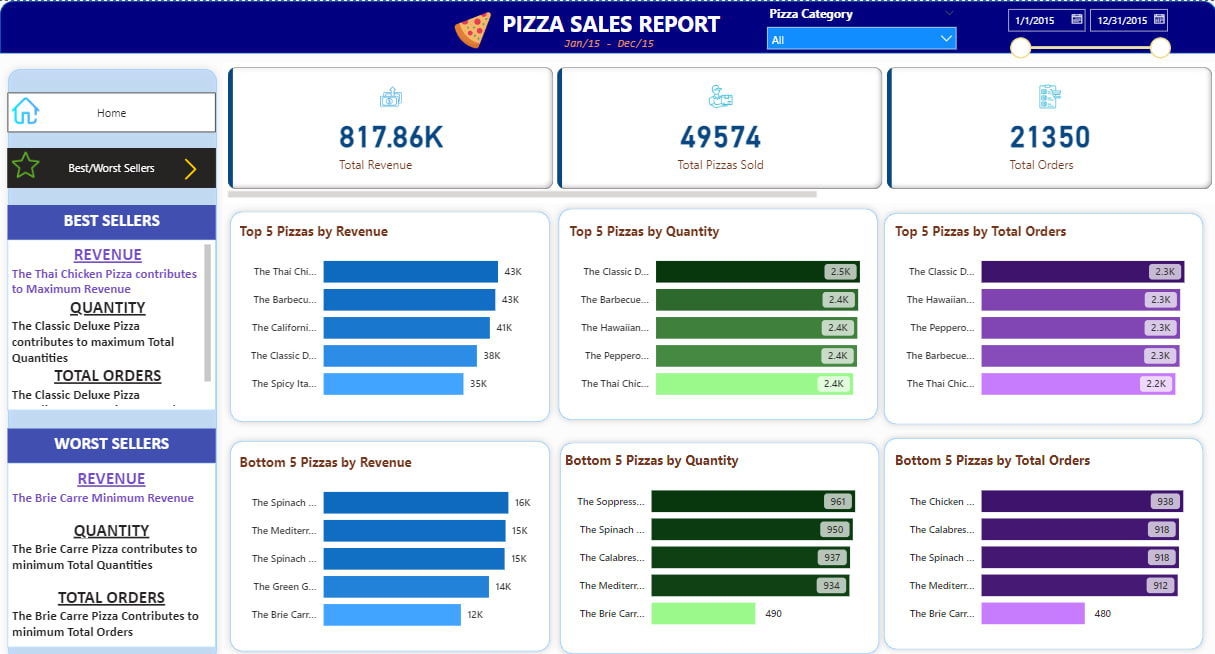

This screenshot's page, from the dashboard's own definition file:
{"tool":"powerbi","page":{"name":"Best/Worst Sellers","canvas":[1500,820],"ordinal":1},"visuals":[{"type":"cardVisual","fields":{"Data":["pizza_sales.Total Revenue","pizza_sales.Total Pizzas Sold","pizza_sales.Total Orders","pizza_sales.Avg Pizzas Per Order","pizza_sales.Avg Order Value"]},"box":[278.5,75.6,1220.8,173.3],"z":0},{"type":"shape","box":[3.7,0,1495.6,64.5],"z":1000},{"type":"textbox","box":[608.6,3.7,293.2,53.5],"z":2000},{"type":"shape","box":[5.5,75.6,272.9,745],"z":3000},{"type":"textbox","box":[678.6,36.9,147.5,38.7],"z":4000},{"type":"image","box":[549.5,7.4,70.1,57.2],"z":5000},{"type":"shape","box":[278.5,250.8,409.4,274.8],"z":6000},{"type":"textbox","box":[12.9,525.6,256.3,42.4],"z":7000},{"type":"textbox","box":[12.9,568,256.3,226.8],"z":8000},{"type":"slicer","fields":{"Values":["pizza_sales.pizza_category"]},"box":[936.8,0,252.6,64.5],"z":9000},{"type":"slicer","fields":{"Values":["pizza_sales.order_date"]},"box":[1230,0,221.3,75.6],"z":10000},{"type":"textbox","box":[12.9,293.2,256.3,210.2],"z":11000},{"type":"textbox","box":[12.9,250.8,256.3,42.4],"z":12000},{"type":"shape","box":[1082.1,530.2,408.5,276],"z":13000},{"type":"shape","box":[684.5,534.5,408.5,276],"z":14000},{"type":"shape","box":[278.5,533,409.4,274.8],"z":15000},{"type":"shape","box":[682.3,247.7,408.5,276],"z":16000},{"type":"shape","box":[1082.1,252.1,408.5,276],"z":17000},{"type":"barChart","title":"Top 5 Pizzas by Revenue","fields":{"Category":["pizza_sales.pizza_name"],"Y":["pizza_sales.Total Revenue"]},"box":[293.3,271.6,378.1,232.5],"z":18000},{"type":"barChart","title":"Bottom 5 Pizzas by Revenue","fields":{"Category":["pizza_sales.pizza_name"],"Y":["pizza_sales.Total Revenue"]},"box":[293.2,555.1,379.9,232.4],"z":19000},{"type":"barChart","title":"Top 5 Pizzas by Quantity","fields":{"Category":["pizza_sales.pizza_name"],"Y":["pizza_sales.Total Pizzas Sold"]},"box":[699.7,271.6,391.1,232.5],"z":20000},{"type":"barChart","title":"Bottom 5 Pizzas by Quantity","fields":{"Category":["pizza_sales.pizza_name"],"Y":["pizza_sales.Total Pizzas Sold"]},"box":[693.1,554.1,391.1,232.5],"z":21000},{"type":"barChart","title":"Top 5 Pizzas by Total Orders","fields":{"Category":["pizza_sales.pizza_name"],"Y":["pizza_sales.Total Orders"]},"box":[1099.5,271.6,391.1,232.5],"z":22000},{"type":"barChart","title":"Bottom 5 Pizzas by Total Orders","fields":{"Category":["pizza_sales.pizza_name"],"Y":["pizza_sales.Total Orders"]},"box":[1099.1,553.2,391,232.4],"z":23000},{"type":"pageNavigator","box":[12.9,180.7,256.3,49.8],"z":24000},{"type":"pageNavigator","box":[12.9,112.5,256.3,49.8],"z":25000},{"type":"image","box":[219.5,188.1,36.9,36.9],"z":26000},{"type":"image","box":[12.9,112.5,44.3,44.3],"z":27000},{"type":"image","box":[12.9,178.9,44.3,44.3],"z":28000}]}

Visuals, with their boxes in screenshot pixels (x1, y1, x2, y2), scaled from the page's 1500x820 canvas onto the 1215x654 screenshot:
cardVisual - pizza_sales.Total Revenue x pizza_sales.Total Pizzas Sold: 226,60,1214,199
shape: 3,0,1214,51
textbox: 493,3,730,46
shape: 4,60,226,653
textbox: 550,29,669,60
image: 445,6,502,52
shape: 226,200,557,419
textbox: 10,419,218,453
textbox: 10,453,218,634
slicer - pizza_sales.pizza_category: 759,0,963,51
slicer - pizza_sales.order_date: 996,0,1176,60
textbox: 10,234,218,401
textbox: 10,200,218,234
shape: 877,423,1207,643
shape: 554,426,885,646
shape: 226,425,557,644
shape: 553,198,884,418
shape: 877,201,1207,421
"Top 5 Pizzas by Revenue" barChart: 238,217,544,402
"Bottom 5 Pizzas by Revenue" barChart: 237,443,545,628
"Top 5 Pizzas by Quantity" barChart: 567,217,884,402
"Bottom 5 Pizzas by Quantity" barChart: 561,442,878,627
"Top 5 Pizzas by Total Orders" barChart: 891,217,1207,402
"Bottom 5 Pizzas by Total Orders" barChart: 890,441,1207,627
pageNavigator: 10,144,218,184
pageNavigator: 10,90,218,129
image: 178,150,208,179
image: 10,90,46,125
image: 10,143,46,178
